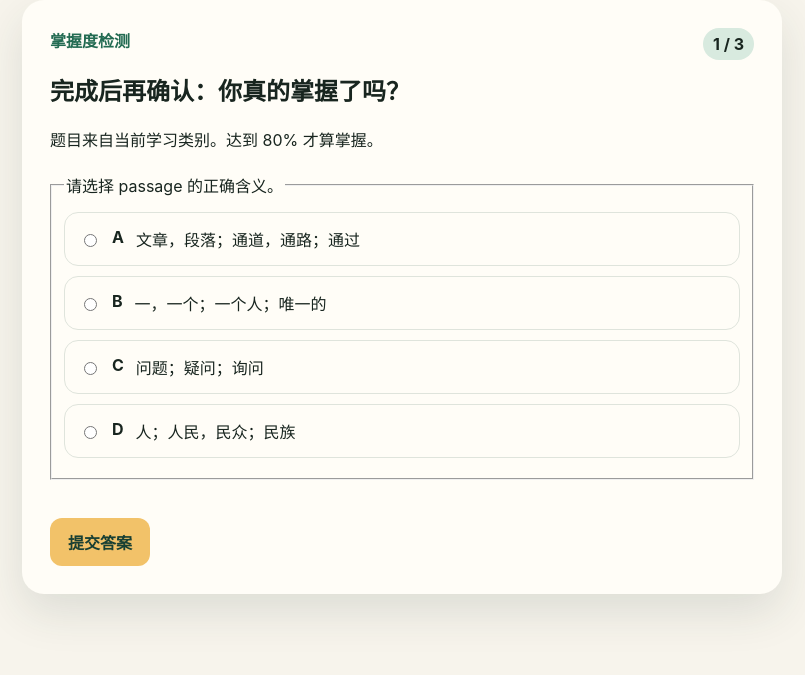
MasteryCheck › keeps the selected answer and retries after a save failure
The image size is (805, 675).
Click the radio button labelled "A 文章，段落；通道，通路；通过" at (90, 241), box x1=84 y1=230 x2=97 y2=251
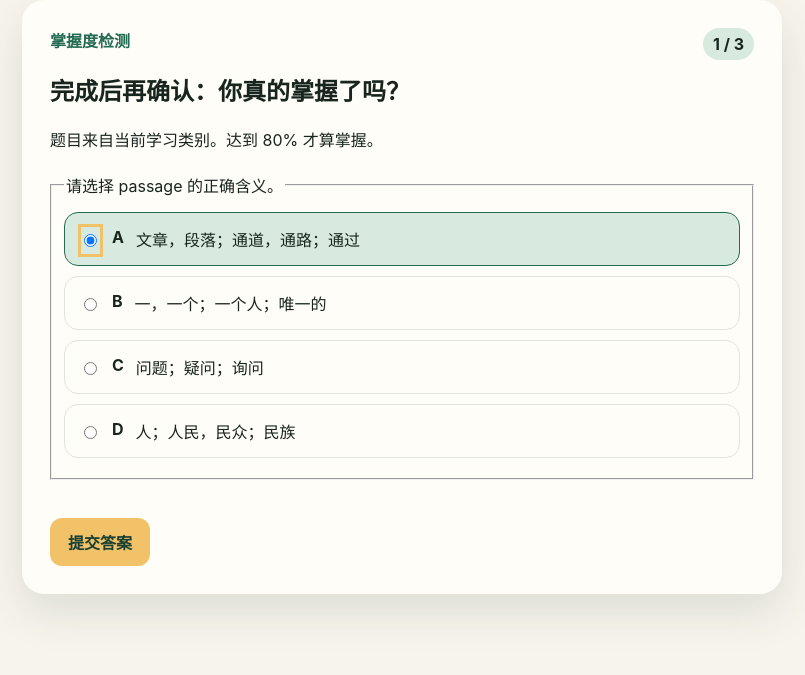
Click the button "提交答案" at (100, 542), box x1=50 y1=518 x2=150 y2=566
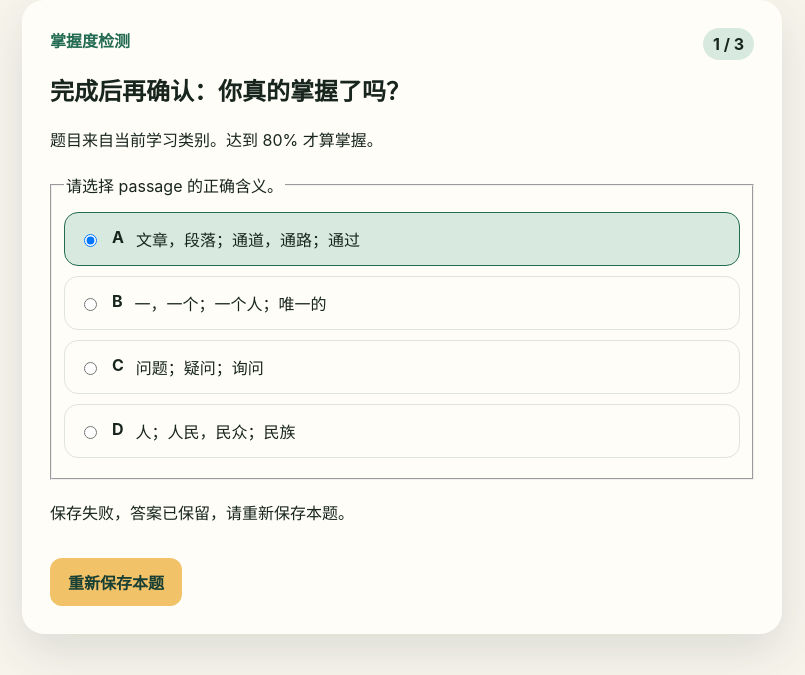
Expected: the radio button labelled "A 文章，段落；通道，通路；通过" is checked, x1=84 y1=230 x2=97 y2=251
Expected: the message shows "保存失败", x1=50 y1=503 x2=354 y2=523
Click the button "重新保存本题" at (116, 582), box x1=50 y1=558 x2=182 y2=606
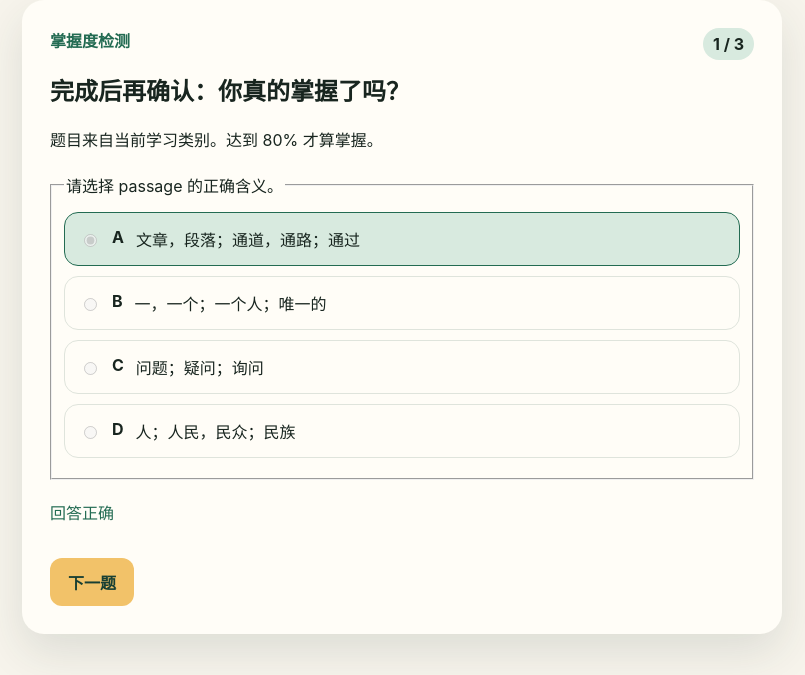
Expected: the text "回答正确" is shown, x1=50 y1=503 x2=114 y2=523
